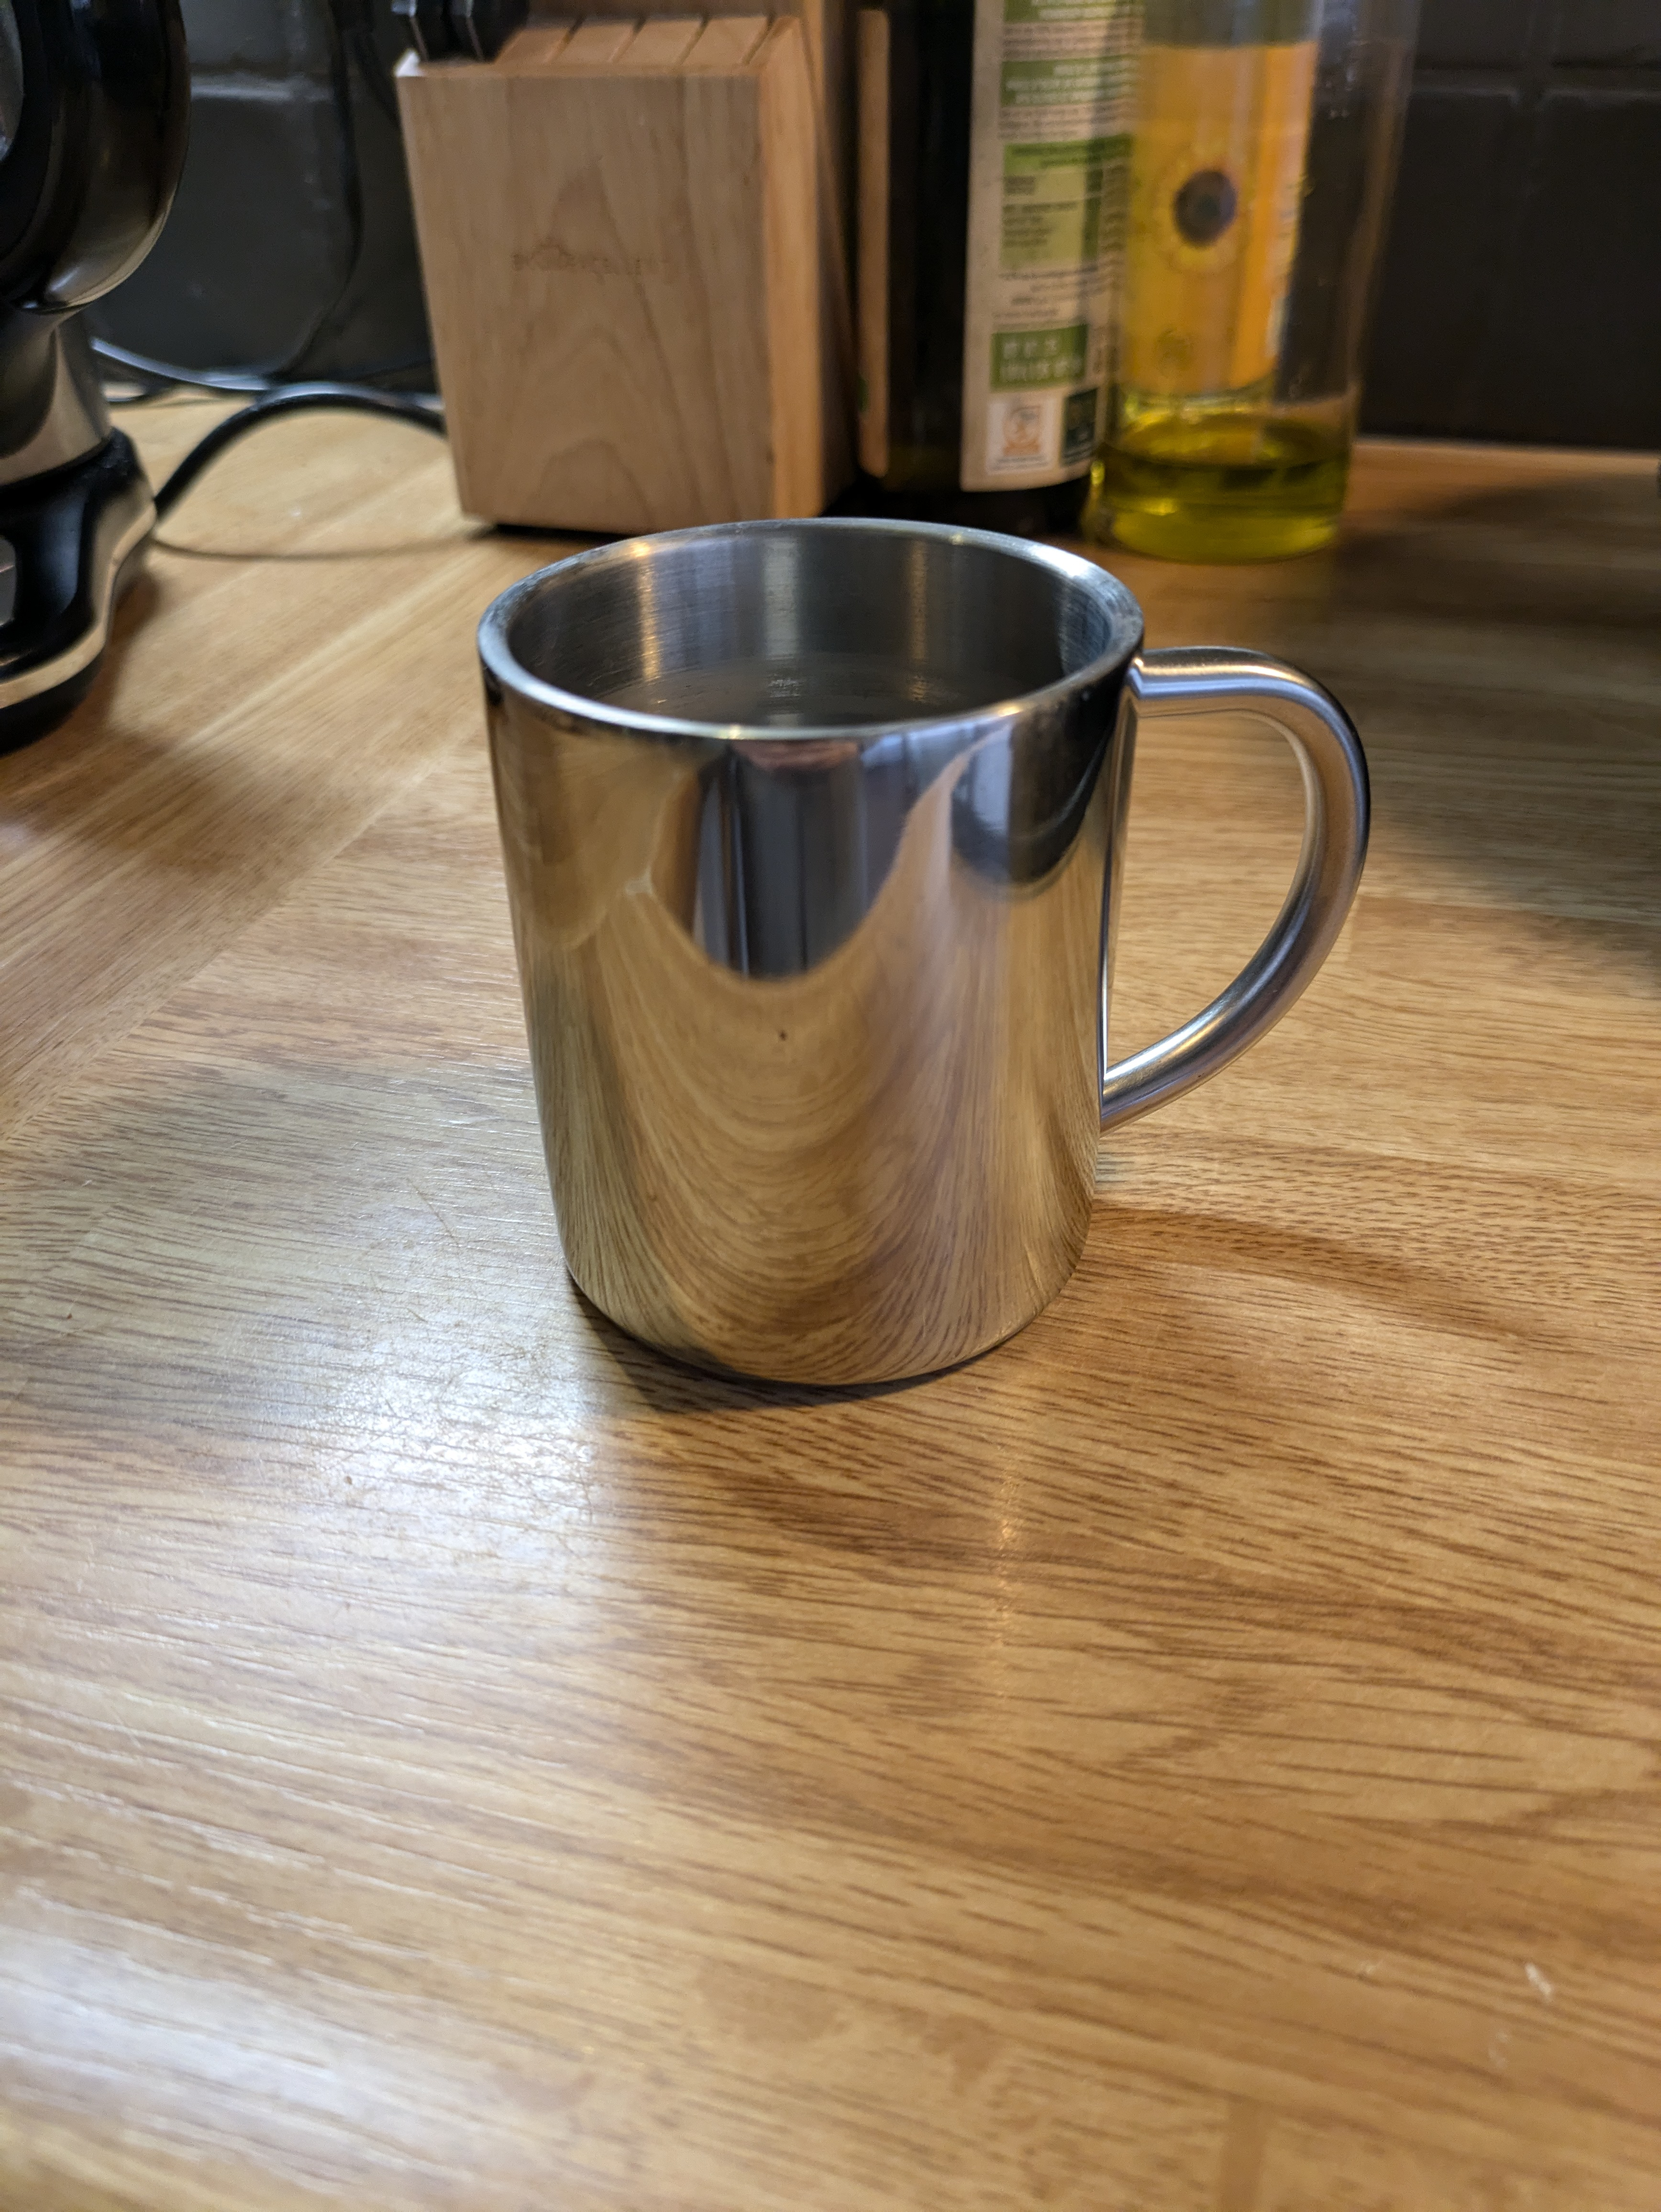mok: (426, 461, 1398, 1441)
